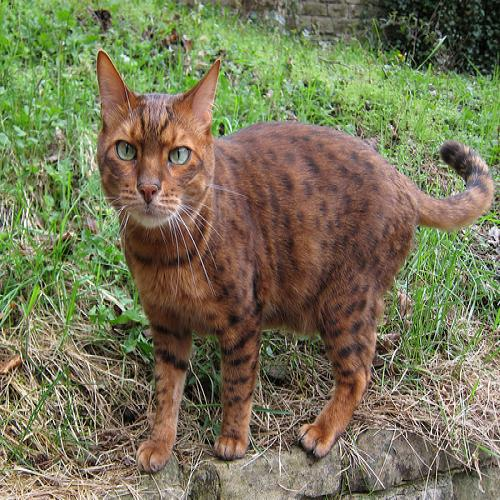bengal: (93, 51, 224, 244)
